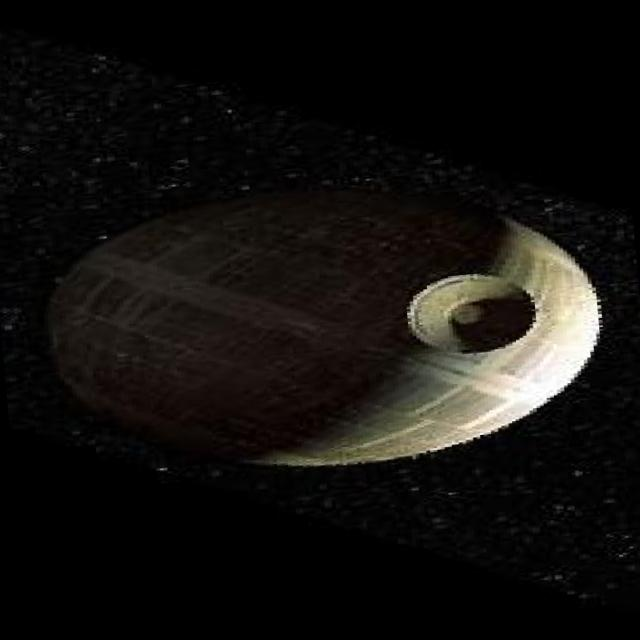Death Star: (21, 136, 624, 497)
